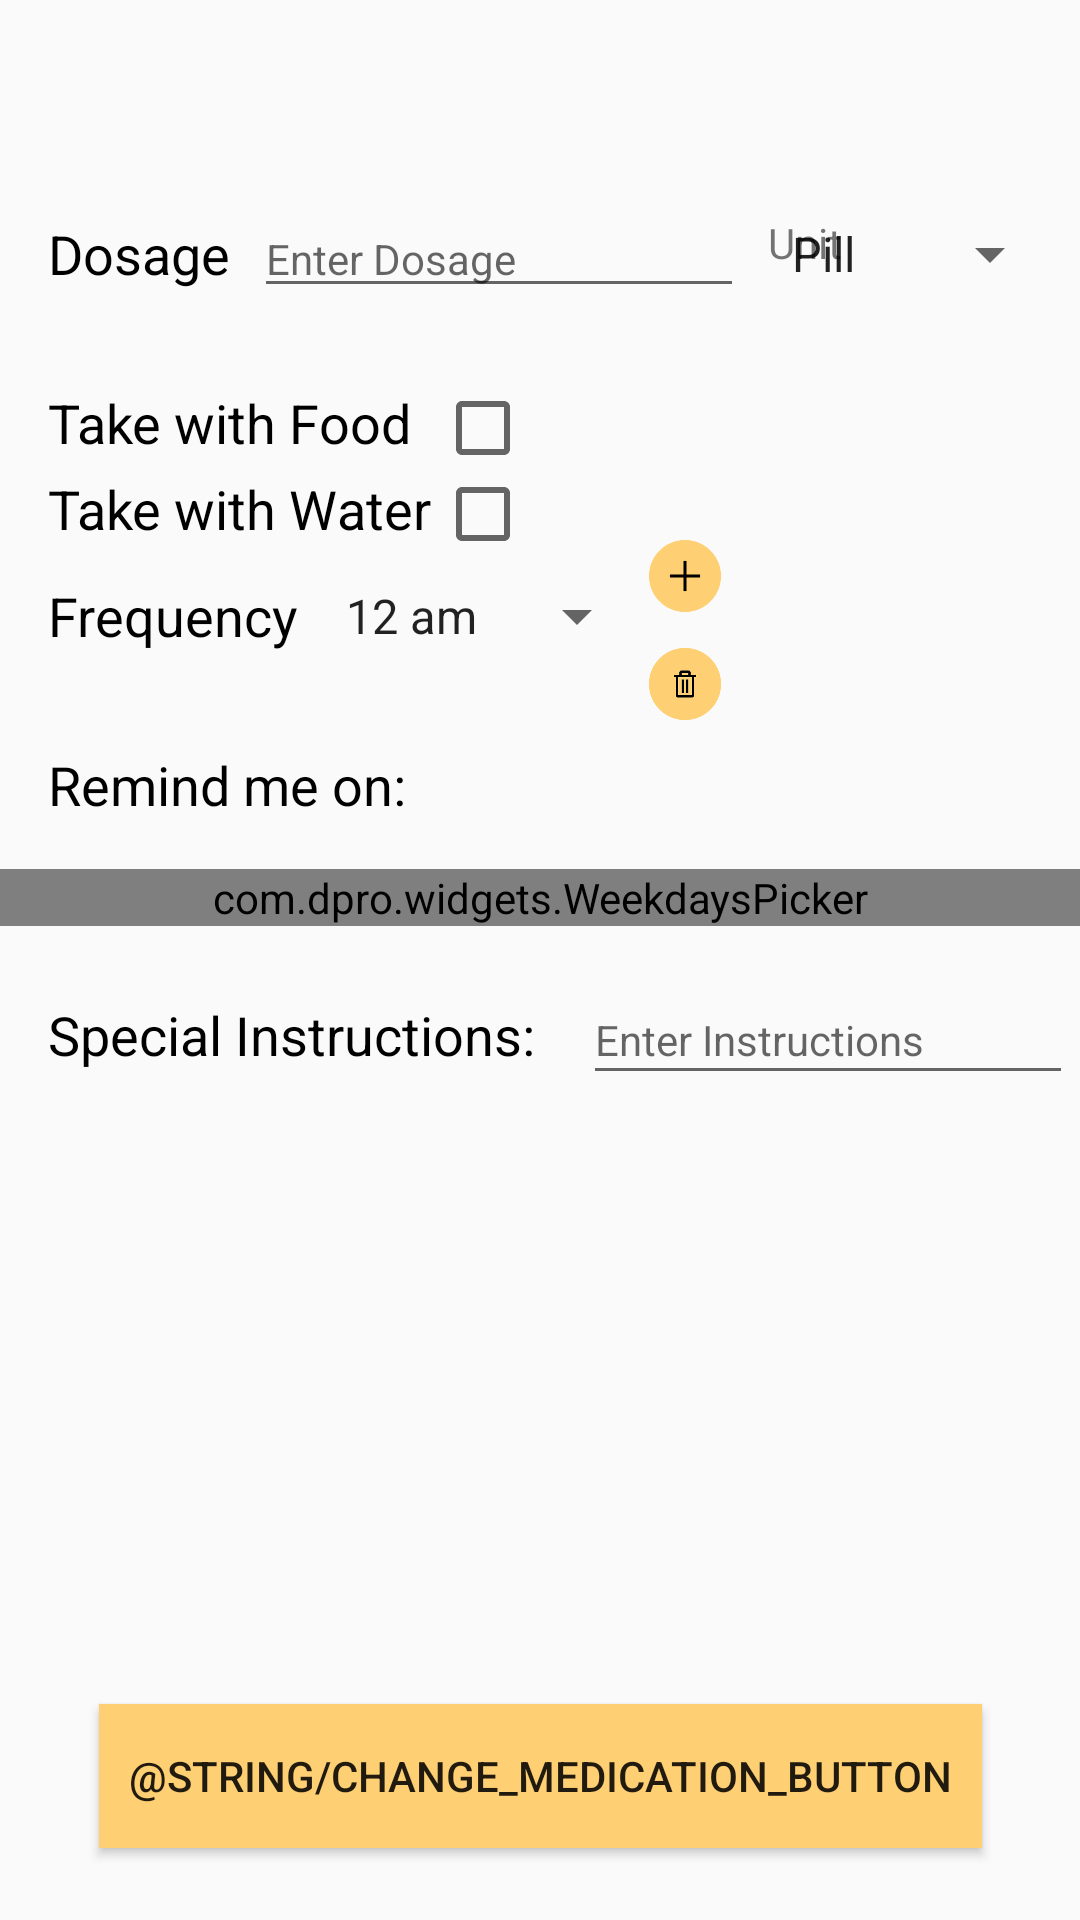

Named icons in this screenshot (1080px x 1920px) and their centers, [x,y]:
add: [685,576]
trash: [685,684]
